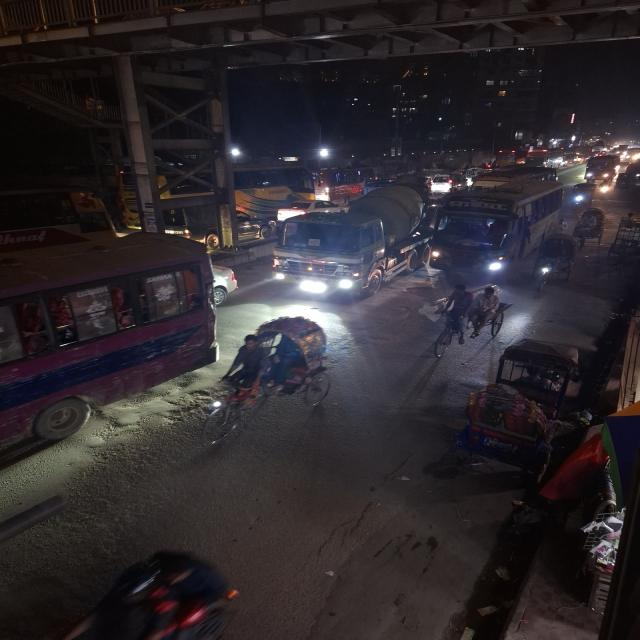bus: (0, 244, 214, 454), (428, 178, 564, 279), (582, 155, 617, 182), (525, 148, 564, 167)
car: (422, 172, 452, 194)
rickshaw: (454, 334, 595, 480), (192, 317, 333, 451), (430, 279, 508, 357), (530, 232, 582, 292), (572, 207, 609, 246), (570, 182, 595, 208)
truck: (270, 184, 428, 302)
